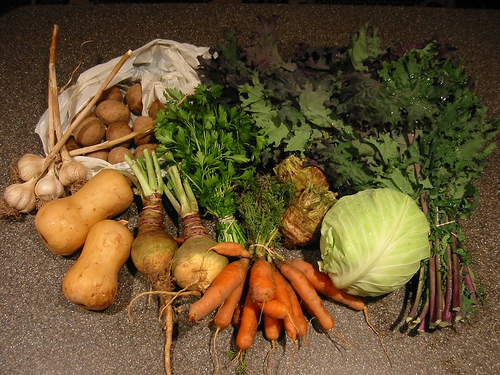cabbage: (316, 189, 431, 298)
